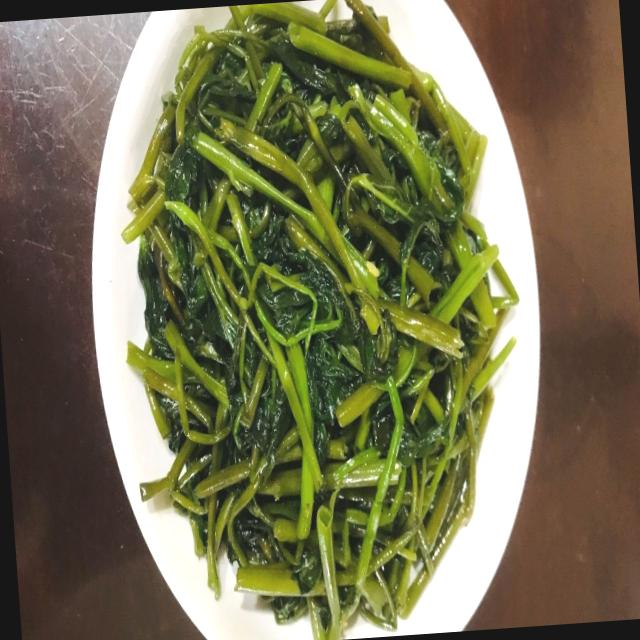rau muong: (121, 0, 518, 640)
